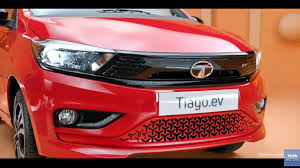Tiago: (11, 8, 269, 157)
